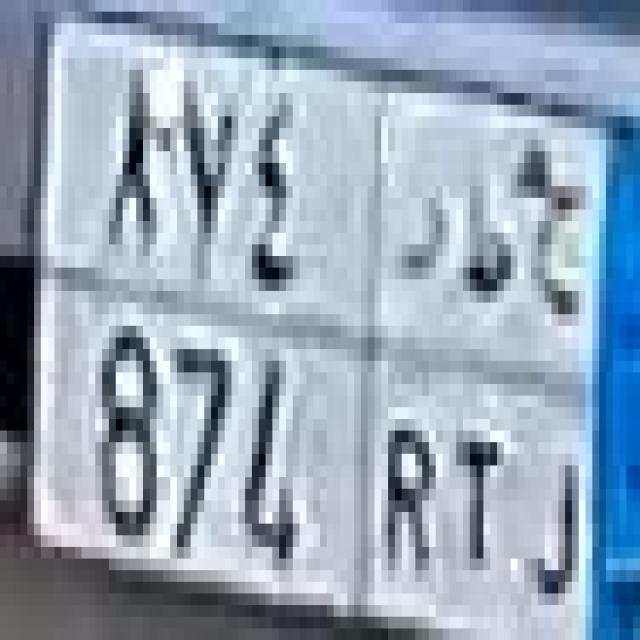license_plate: (41, 24, 623, 625), (72, 297, 589, 629)
